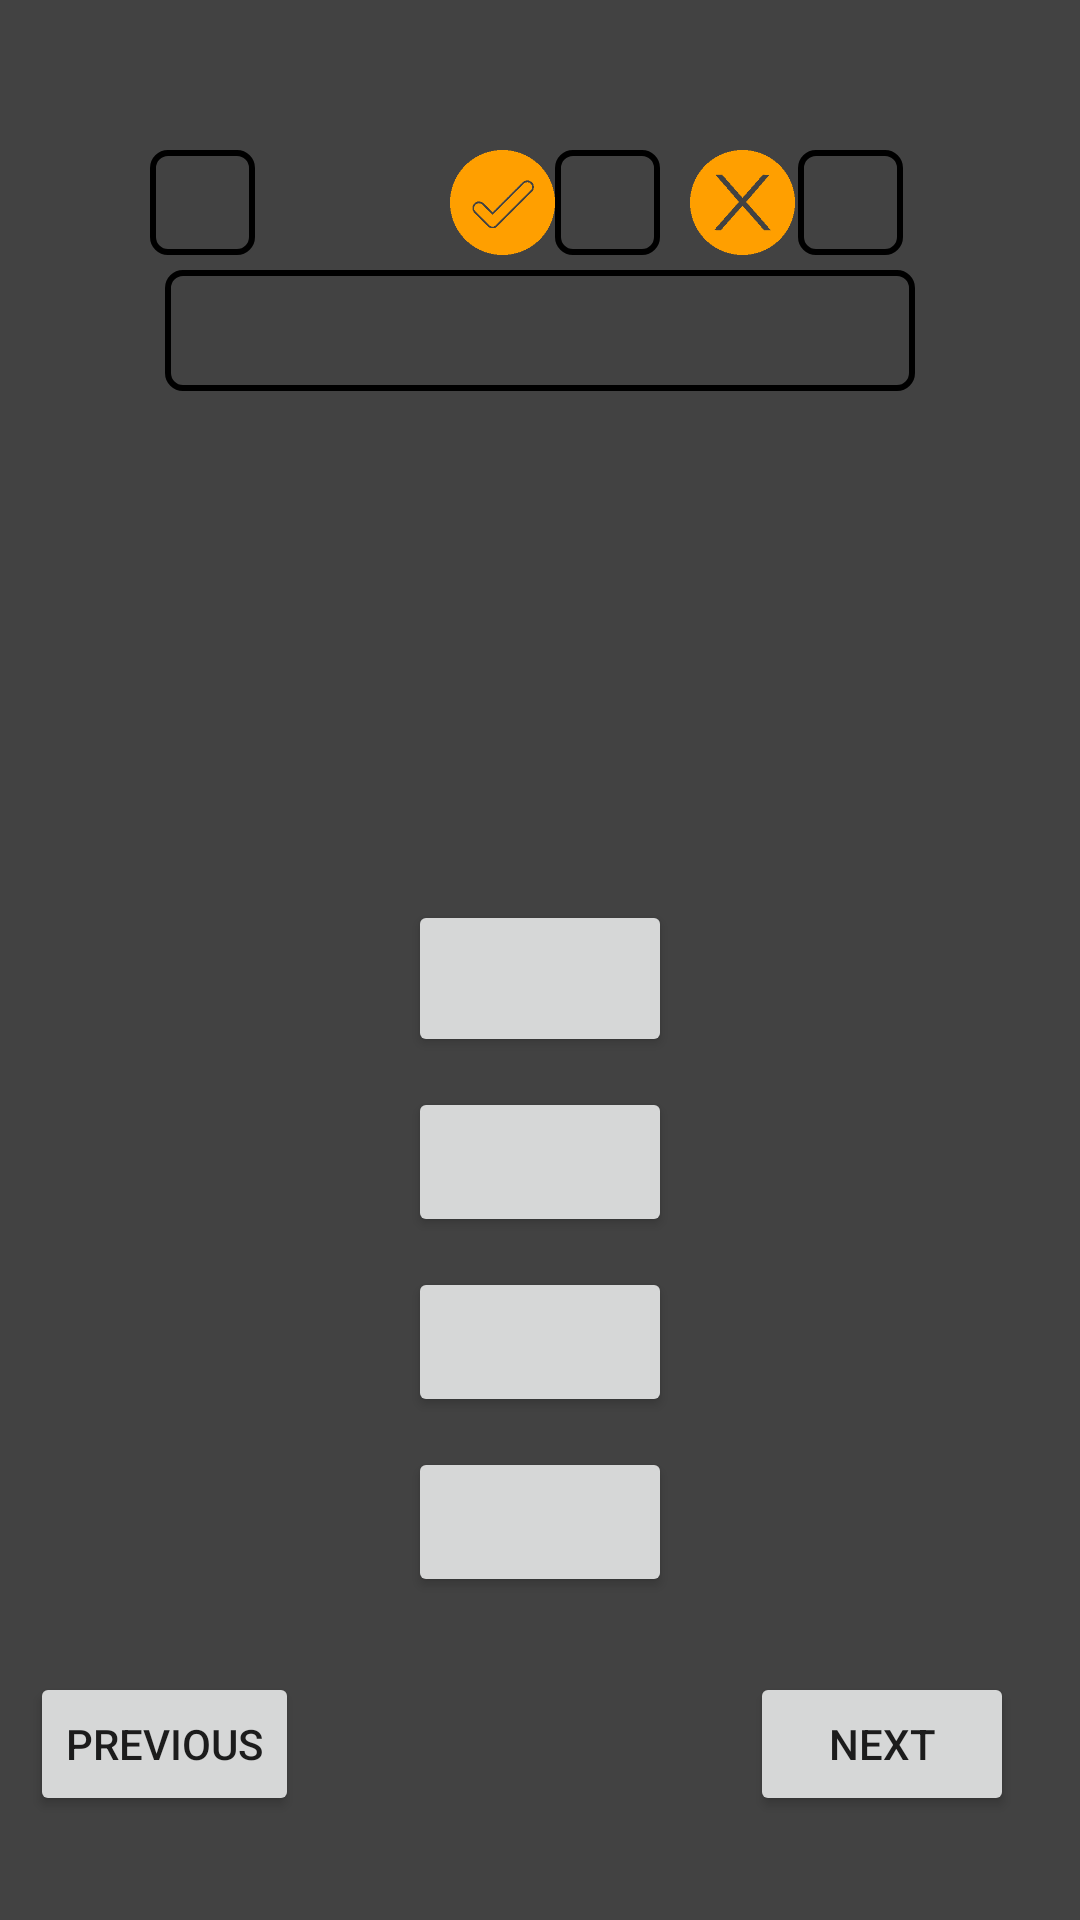

Icon bounding boxes for this 1080px×1920px phone screenshot, format (x1, y1, x2, y2):
cross: (690, 150, 795, 255)
tick: (450, 150, 555, 255)
